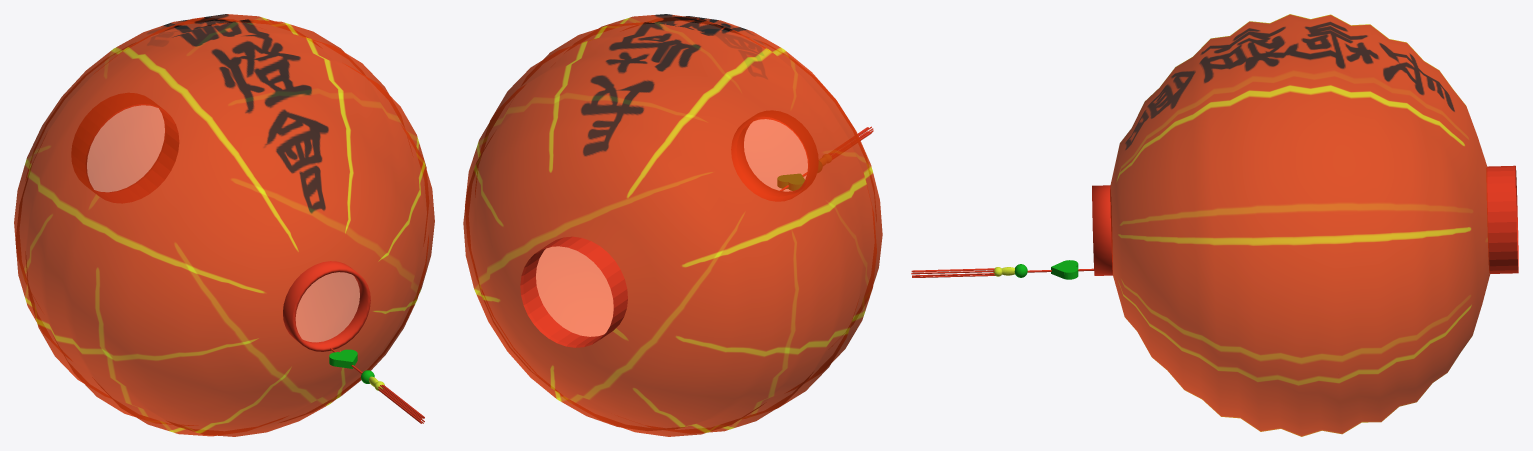
The model's file is asset.glb.
3 views of the same model, side by side, from view 1: azimuth 30°, elevation 25°; view 2: azimuth 150°, elevation 25°; view 3: azimuth 270°, elevation 25° (orthographic).
Parts seen in each view (by area): view 1: 球; view 2: 球; view 3: 球.
Part boxes in pixels (<box>): 球: <box>14,14,434,436</box>; 球: <box>463,14,882,436</box>; 球: <box>911,14,1518,436</box>.
Size of the model in its own units: 4.84 by 4.83 by 6.94.
Materials: 4 (1 with a texture image).
